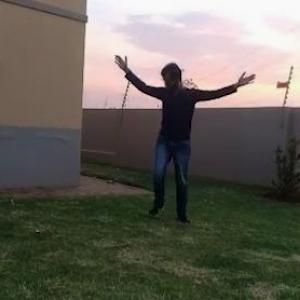takeoff: (110, 40, 261, 217)
